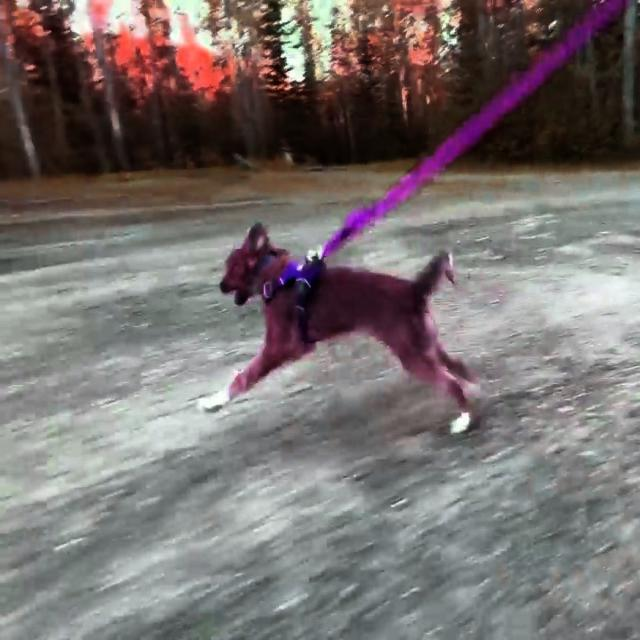Dog: (220, 221, 482, 433)
